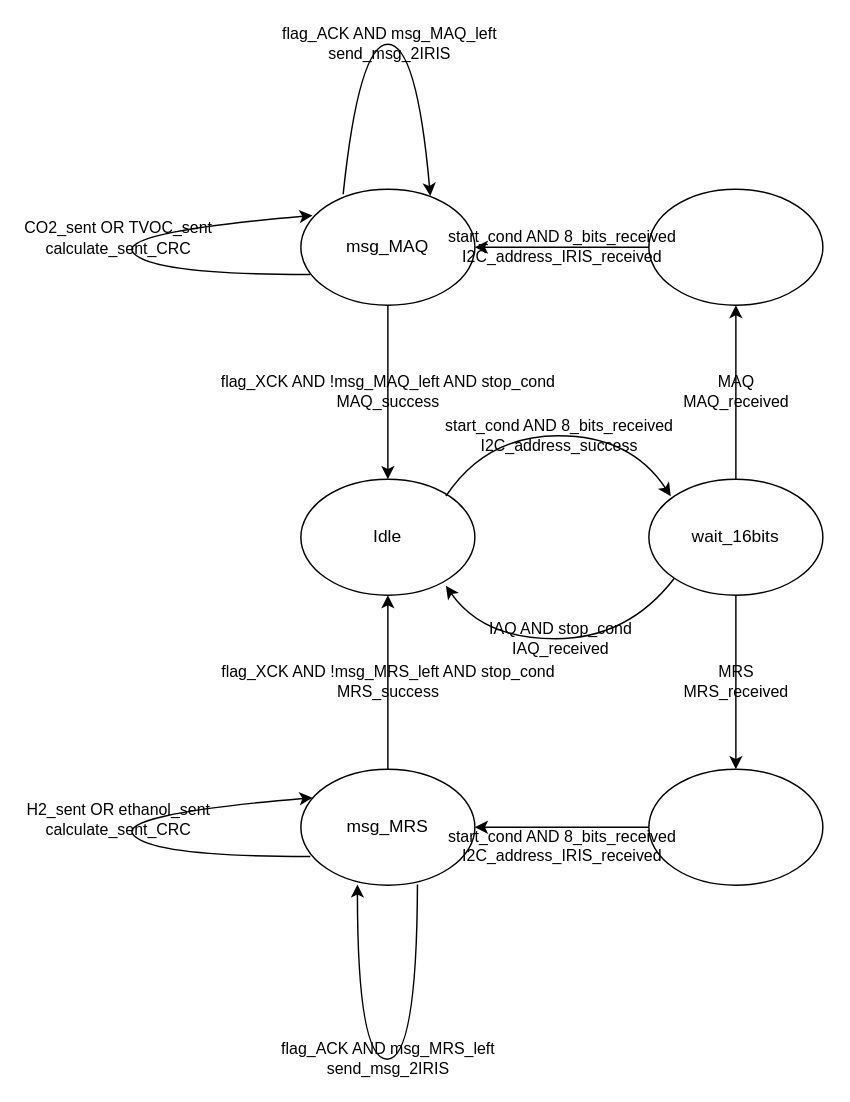
The diagram is 850 pixels wide and 1102 high, and some of its shapes have lost their labels. The box of each missing label's shape, as (x1, y1, x2, y2) in pixels:
MAQ: (647, 188, 823, 305)
MRS: (647, 768, 823, 885)
